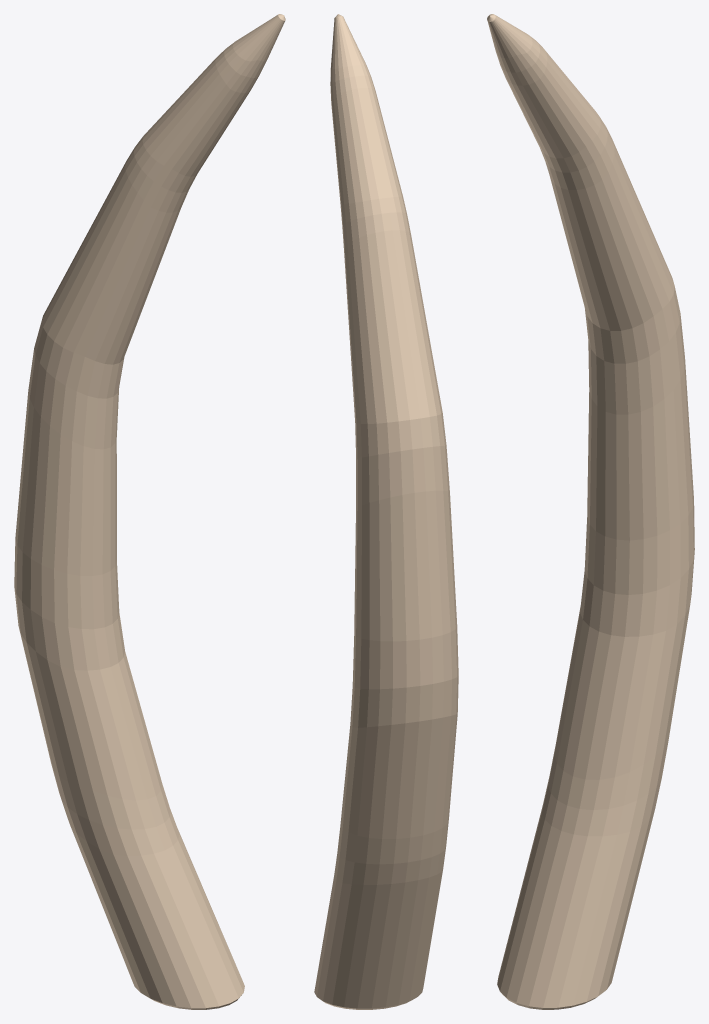
File: fil-disi.fbx
3 views of the same model, side by side, from view 1: azimuth 30°, elevation 25°; view 2: azimuth 150°, elevation 25°; view 3: azimuth 270°, elevation 25° (orthographic). The views are drawn at different scales.
Parts seen in each view (by area): view 1: fil-disi; view 2: fil-disi; view 3: fil-disi.
Boxes of the visible parts, x1,y1,x2,y2 form: fil-disi: [14, 14, 285, 1009]; fil-disi: [314, 14, 458, 1009]; fil-disi: [487, 14, 694, 1009].
Size of the model in its own units: 143 by 697 by 131.
